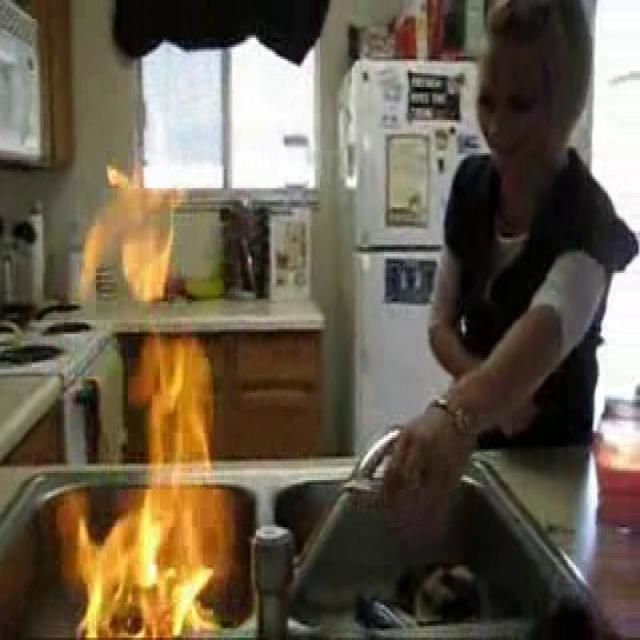fire: (81, 179, 215, 640)
